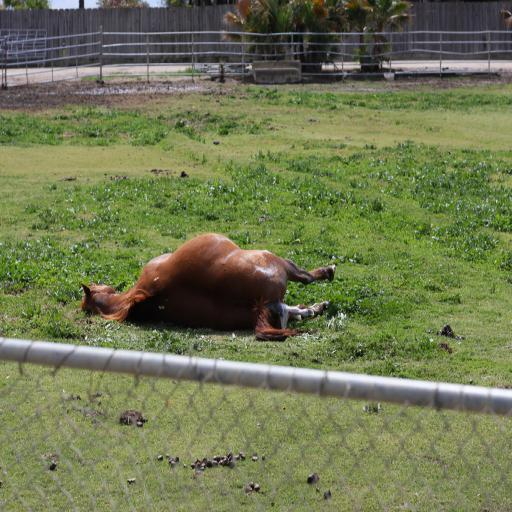horse: (76, 229, 338, 343)
